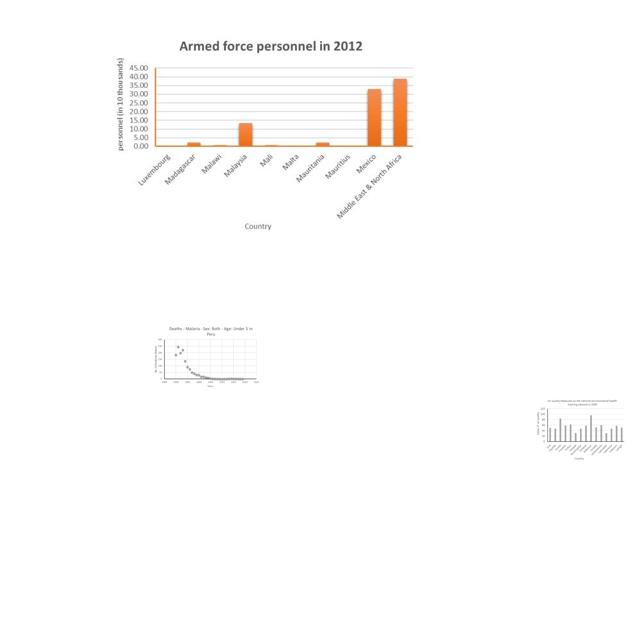Graph: (113, 36, 420, 236), (153, 325, 261, 389), (534, 397, 626, 462)
